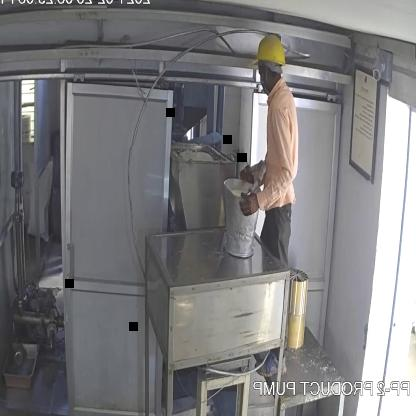helmet: (249, 28, 291, 76)
